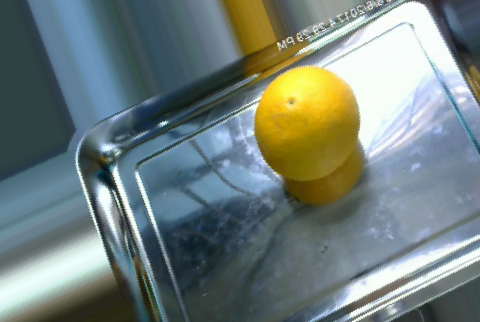Orange: (253, 66, 361, 183)
